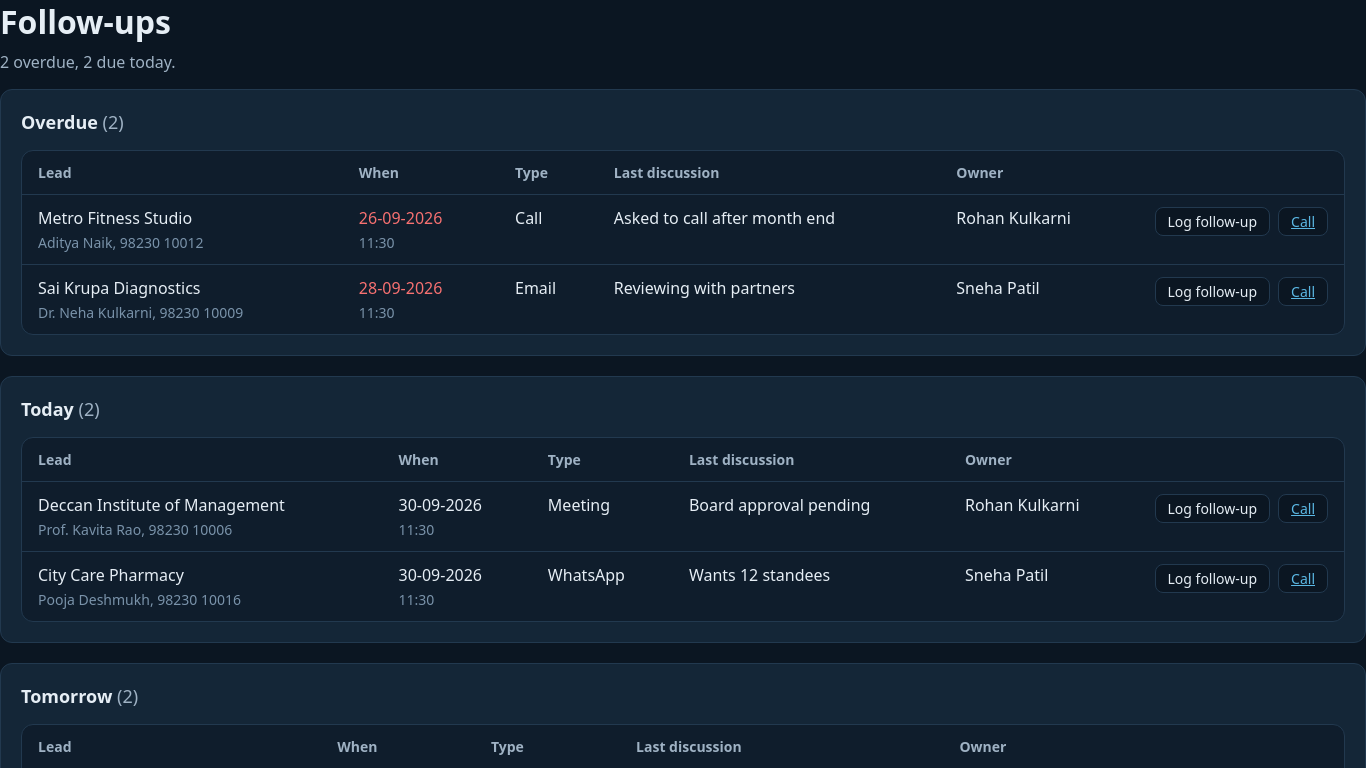
Test: FollowUpsPanel › closes the log form on cancel without changes
Click the button named "Log follow-up for Metro Fitness Studio". click: (1212, 222)
box: left=1154, top=207, right=1270, bottom=236
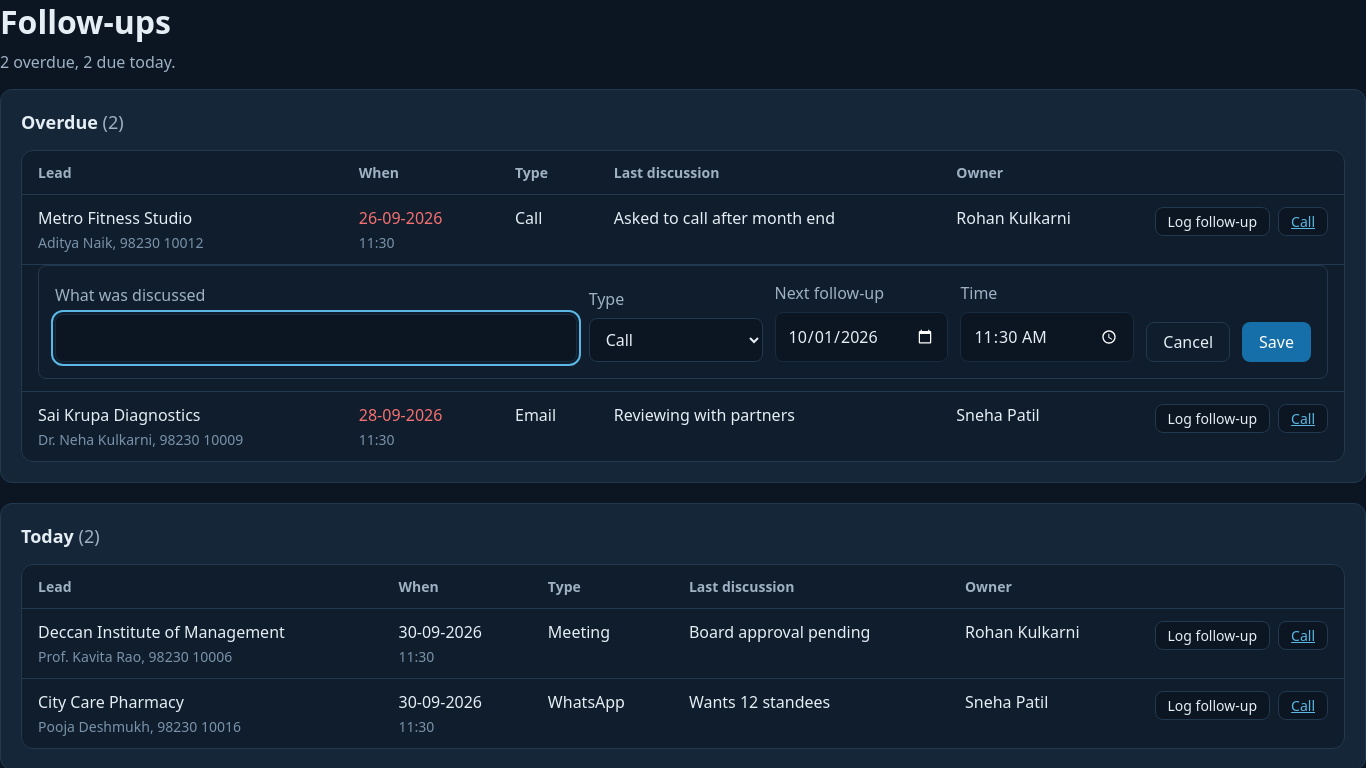
Click the button "Cancel". click: (1188, 342)
box: left=1146, top=322, right=1230, bottom=362
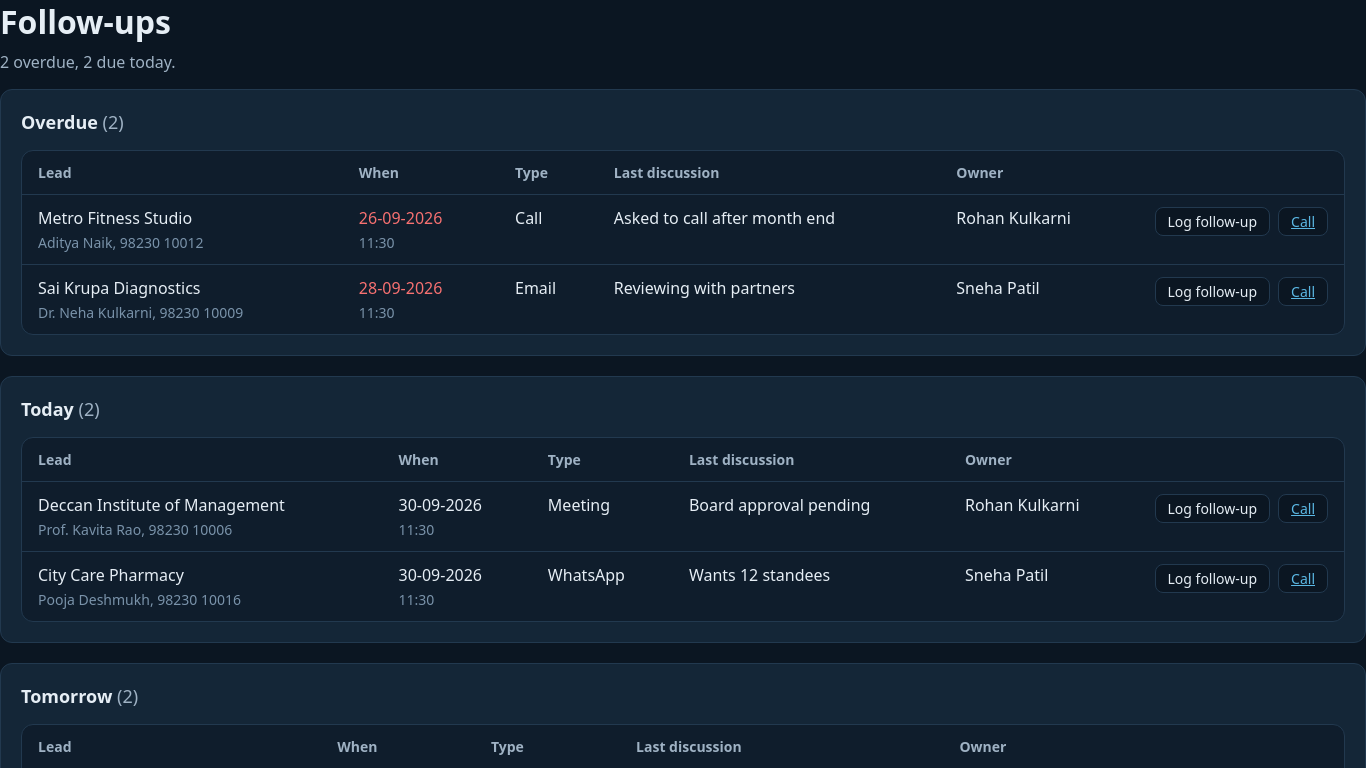
expect the text "2 overdue, 2 due today." is shown: met, box left=0, top=51, right=176, bottom=73
expect the form is gone: met
